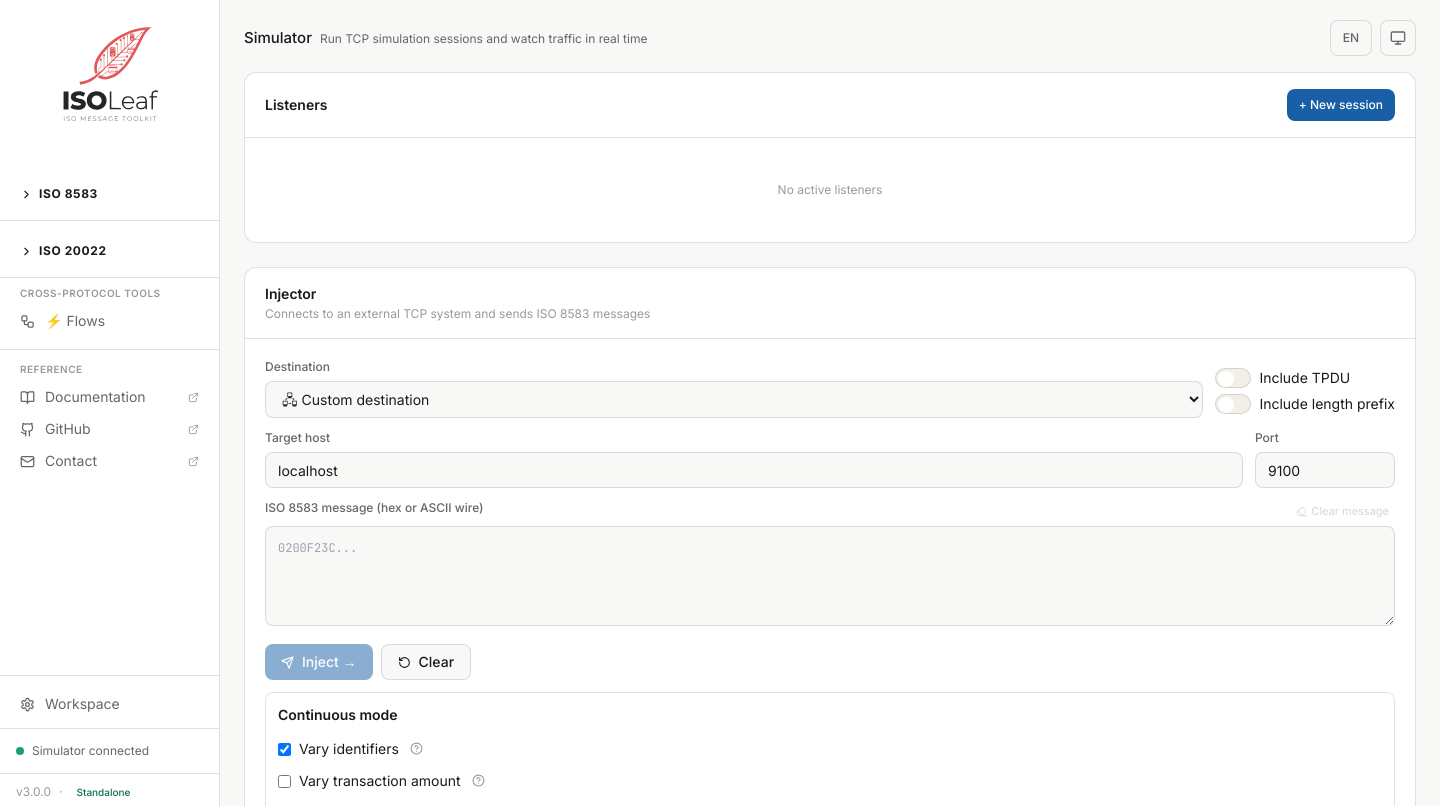
Test case: Simulator page — redesigned layout › Nova sessão form does not show Mode field
Step 1. Click the button "+ New session" → (1341, 105), box [1287,89,1395,121]
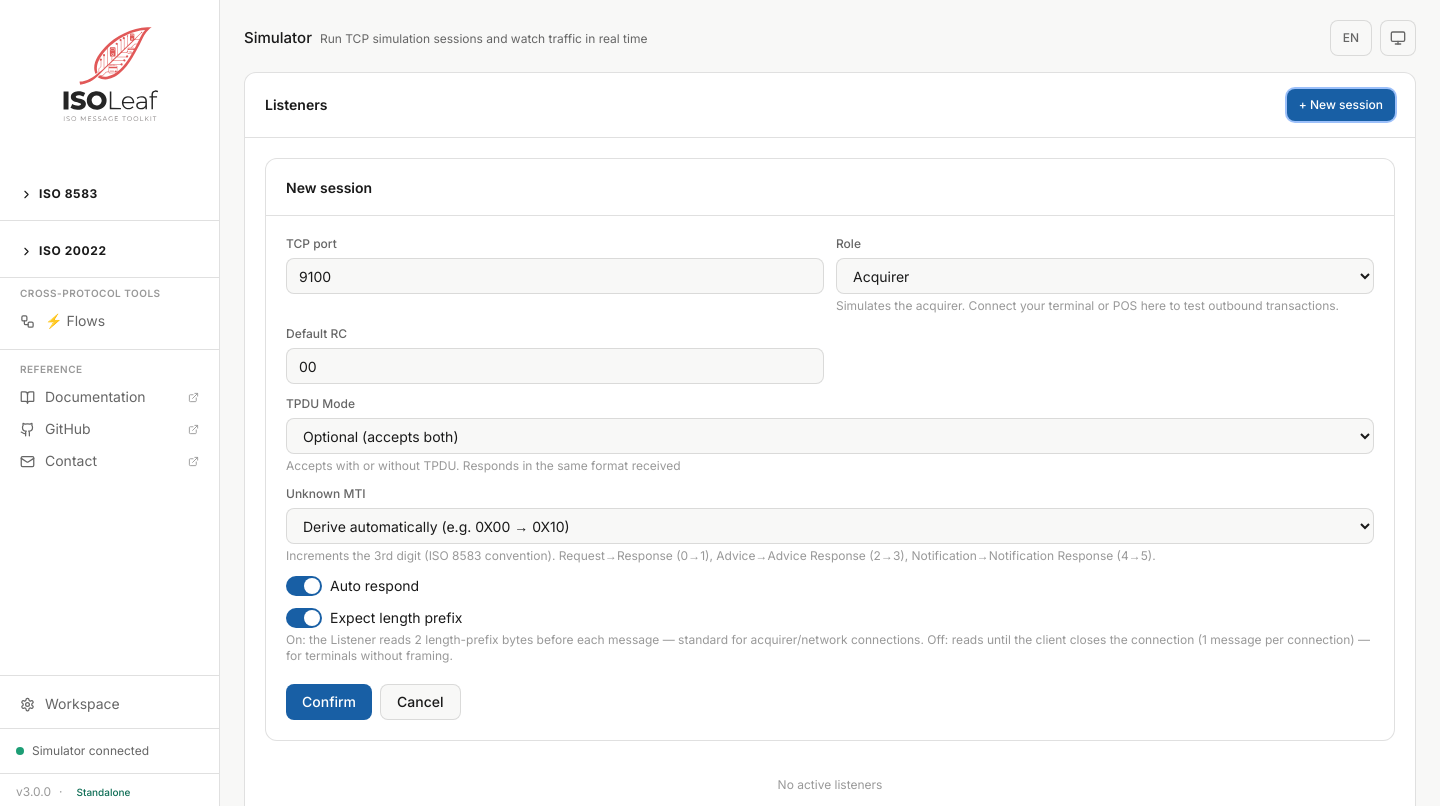
Expected: the text "TCP port" is shown, [286,236,337,251]
